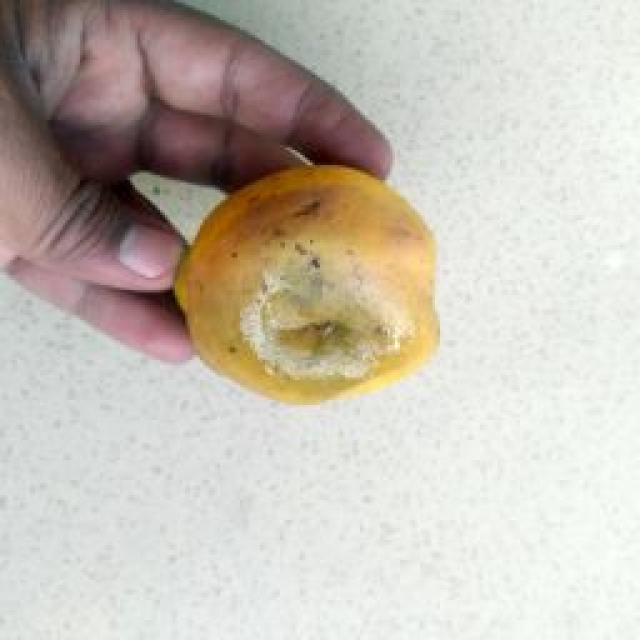Bad_Orange: (175, 166, 439, 403)
